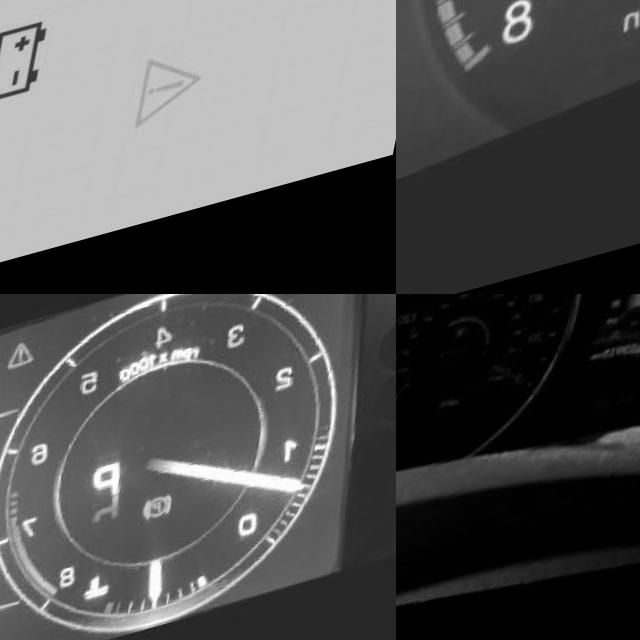Engine cooling system: (92, 590, 125, 624)
